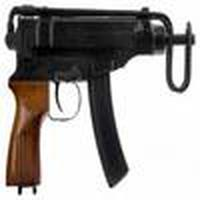gun: (4, 8, 200, 192)
